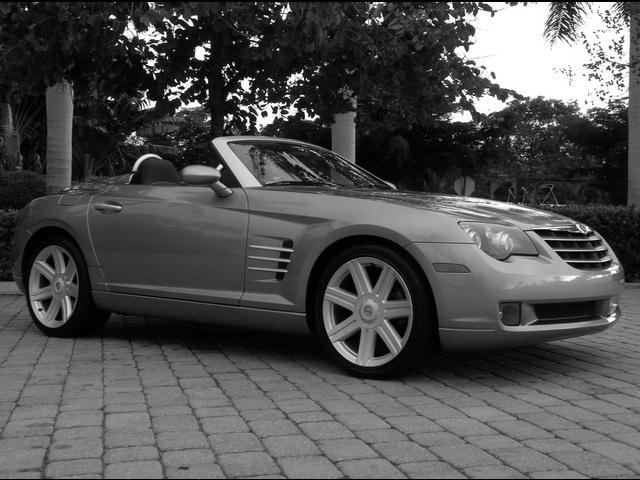car: (13, 136, 626, 380)
